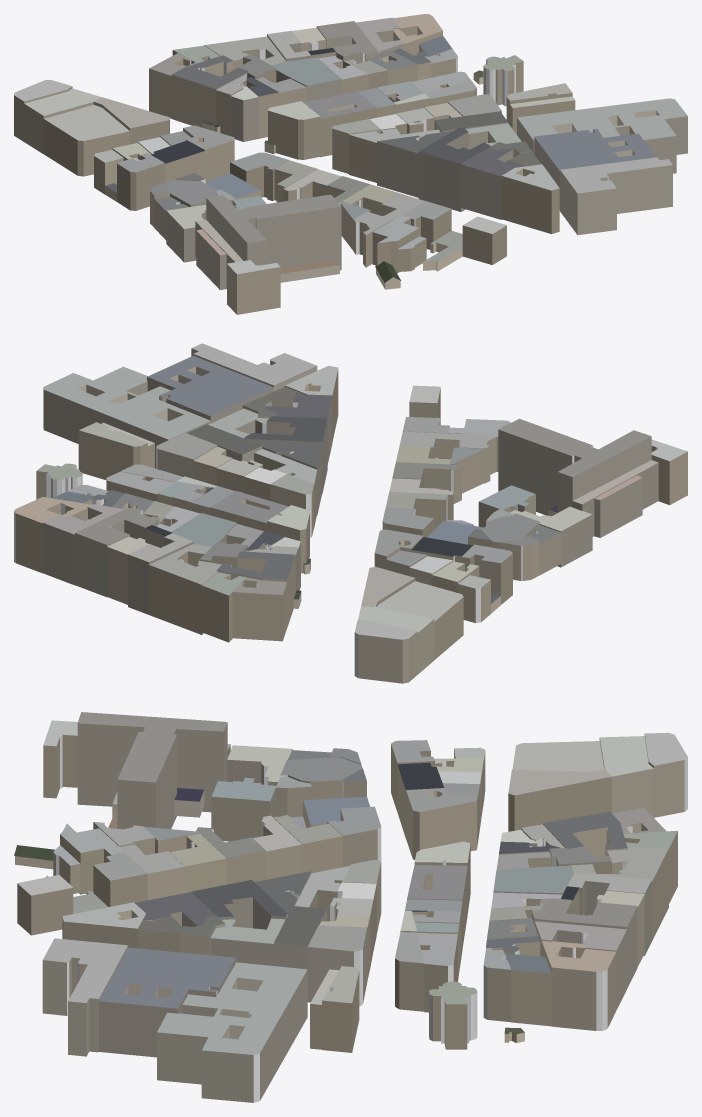
3 renders of one model, top to bottom at view 1: azimuth 30°, elevation 25°; view 2: azimuth 150°, elevation 25°; view 3: azimuth 270°, elevation 25°, orthographic. The views are drawn at different scales.
Parts seen in each view (by area): view 1: tuile; view 2: tuile; view 3: tuile.
Part boxes in pixels (x1,y1,x2,y2): tuile: (14,14,687,314); tuile: (14,343,687,683); tuile: (14,712,687,1102).
Size of the model in its own units: 299 by 35.26 by 264.
